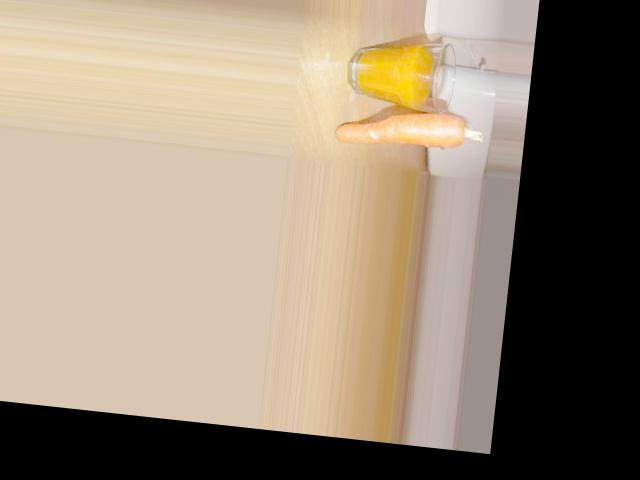carrot: (323, 99, 474, 158)
